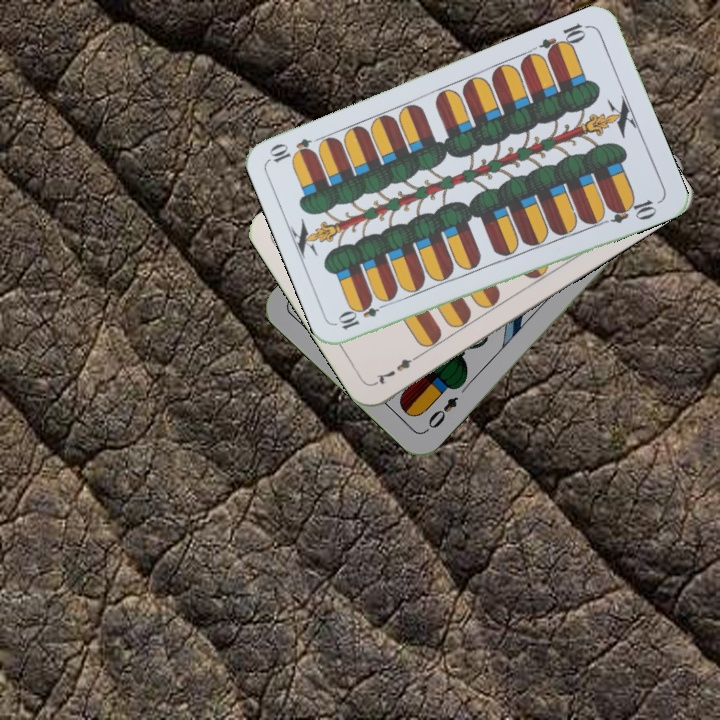E10: (536, 19, 592, 60), (334, 296, 392, 333)
E7: (371, 350, 424, 388)
EO: (421, 392, 461, 435)
